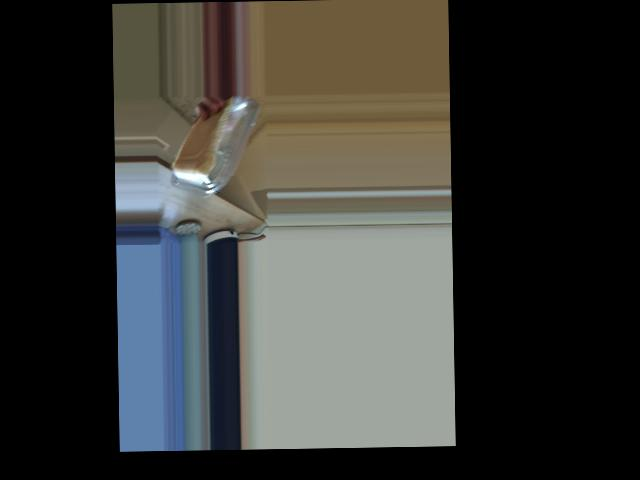cheese: (181, 130, 245, 186)
